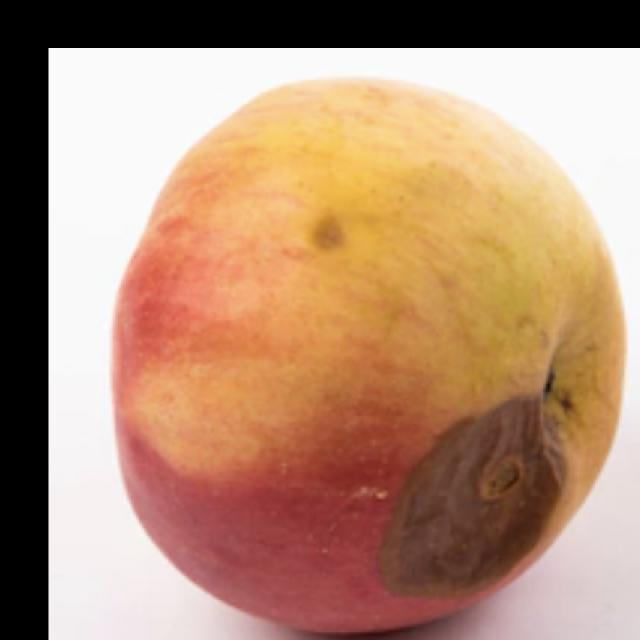Rotten: (123, 82, 610, 603)
